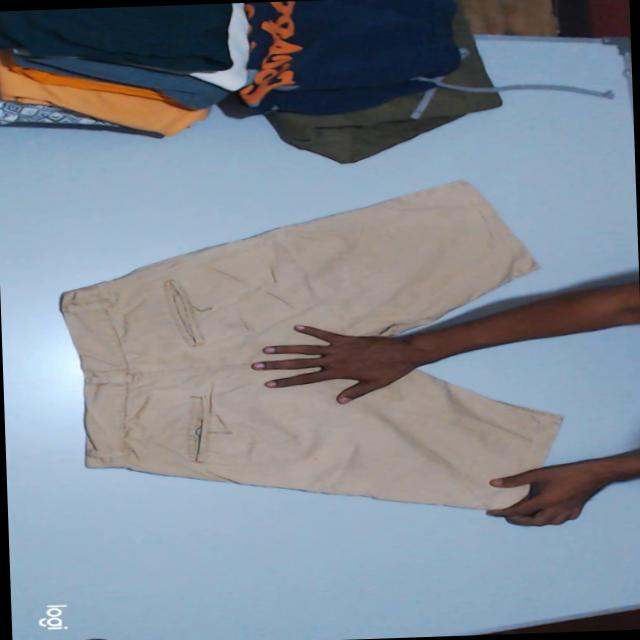new-garment: (60, 181, 560, 508)
